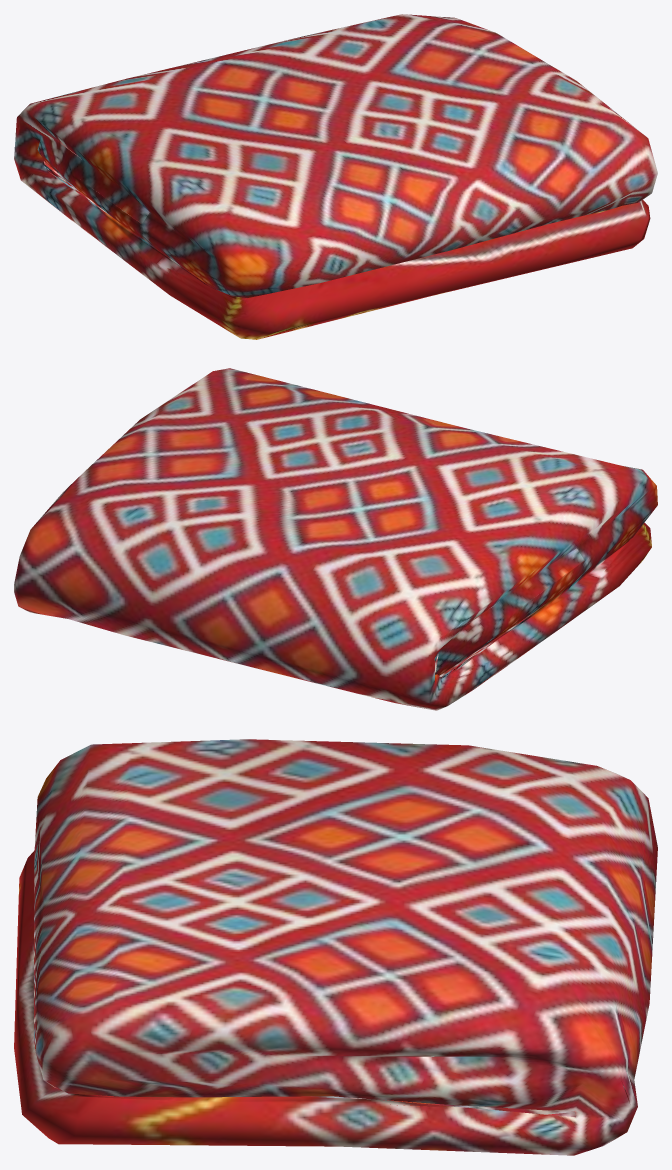
Rendered from kain salele1.fbx.
3 views of the same model, one above another, from view 1: azimuth 30°, elevation 25°; view 2: azimuth 150°, elevation 25°; view 3: azimuth 270°, elevation 25° (orthographic). The views are drawn at different scales.
Visible parts, largest first — view 1: Object_4; view 2: Object_4; view 3: Object_4.
Boxes of the visible parts, <box> form: Object_4: <box>14,14,657,339</box>; Object_4: <box>14,368,657,710</box>; Object_4: <box>14,739,657,1155</box>.
Size of the model in its own units: 287 by 69.01 by 266.
